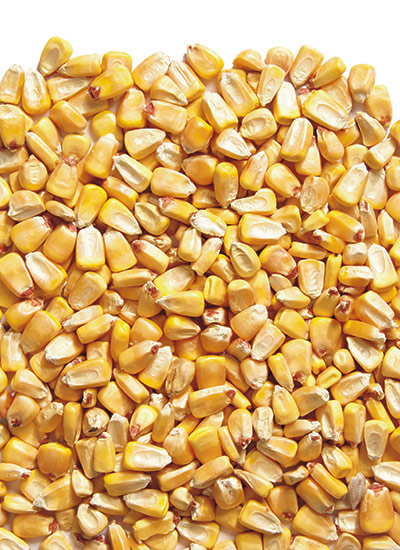seed: (1, 28, 400, 550)
